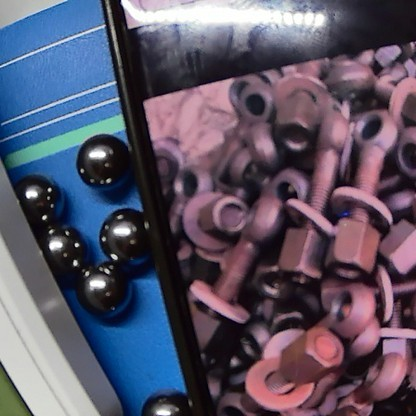ironball: (94, 200, 152, 272), (8, 169, 70, 224), (77, 133, 129, 193), (39, 219, 88, 278), (83, 263, 129, 323), (140, 377, 187, 414)
